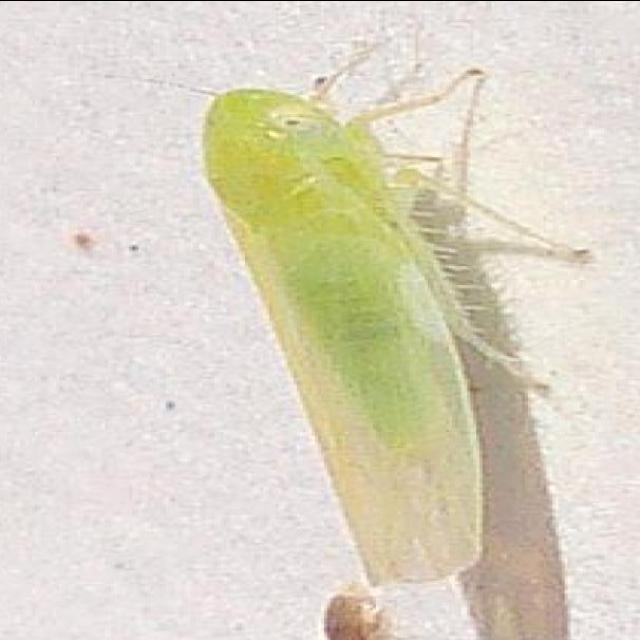green leaf hopper: (203, 67, 587, 584)
